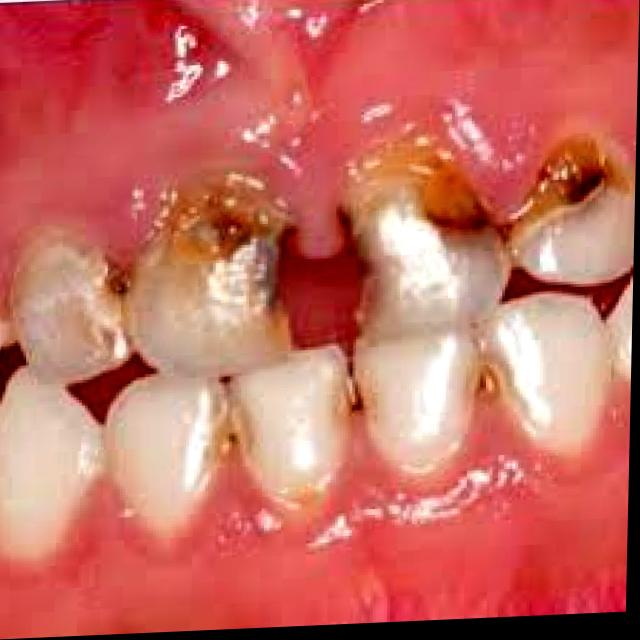cariess: (501, 139, 632, 280), (139, 208, 286, 332), (365, 163, 448, 219), (453, 179, 481, 224)
